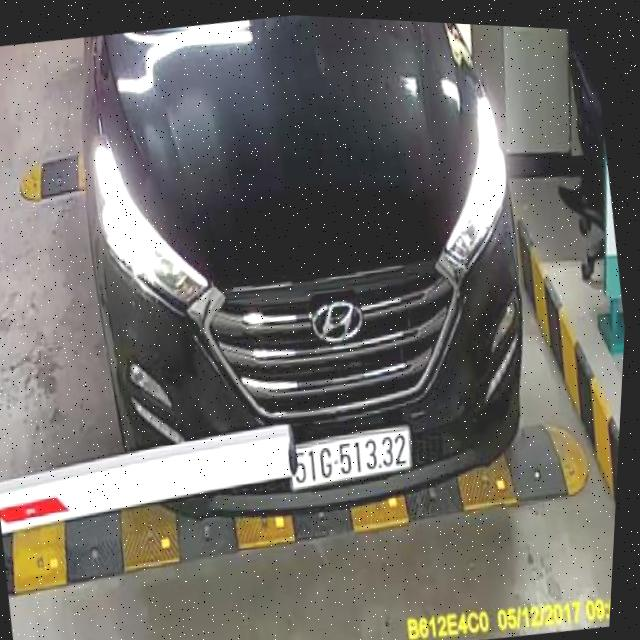car: (39, 3, 575, 562)
plate: (279, 419, 424, 501)
